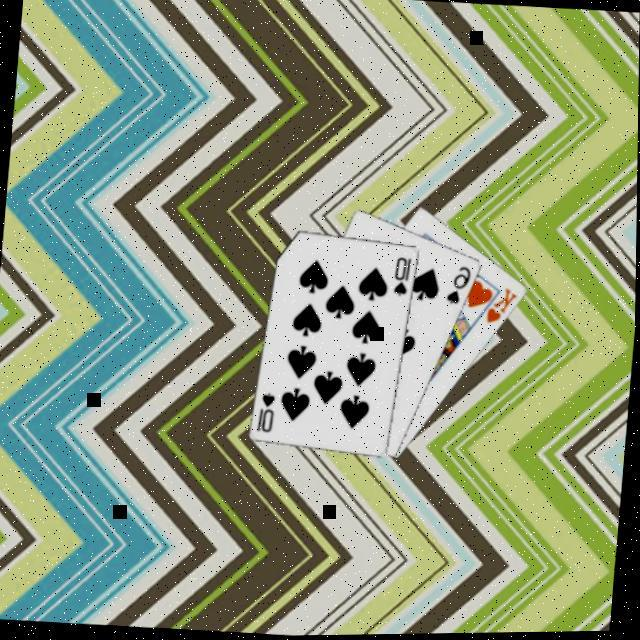10S: (390, 256, 416, 302), (256, 392, 280, 438)
6S: (444, 264, 476, 310)
KH: (484, 286, 524, 331)
